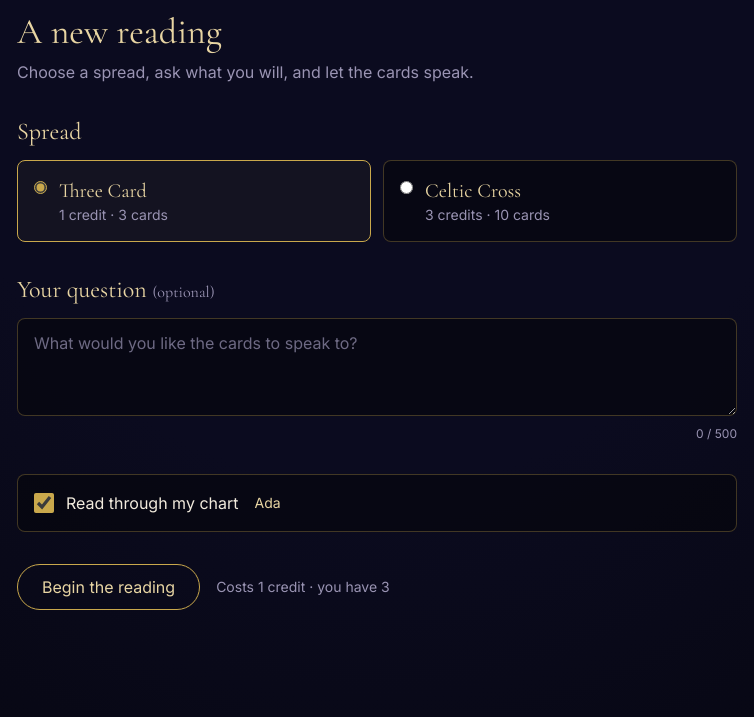
Scenario: 429 asks the user to wait and keeps the form
The image size is (754, 717).
Click the button "Begin the reading" at (109, 587), box [17,564,200,610]
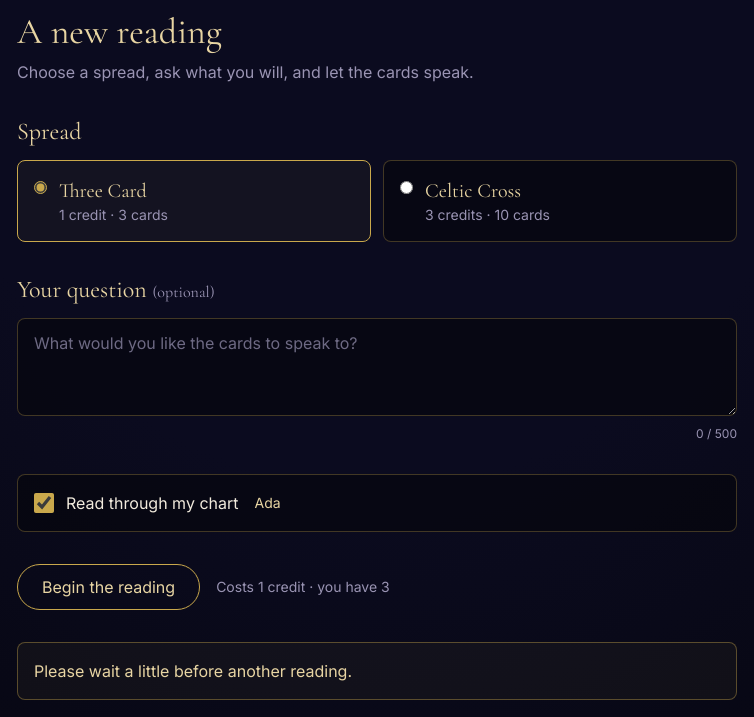
Expected: the message shows "Please wait a little before another reading", [34,661,352,681]
